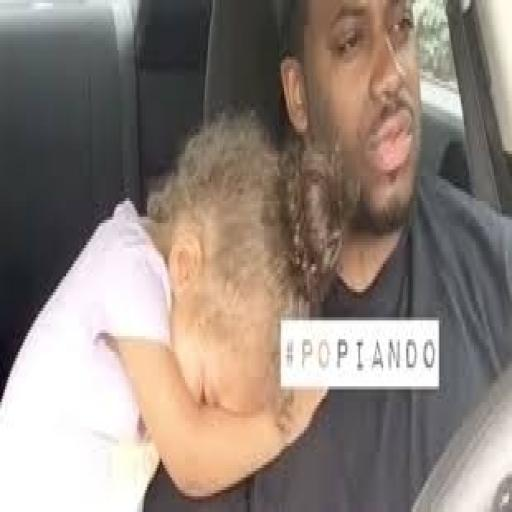hugging: (0, 104, 339, 509)
